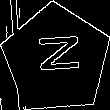N_W: (30, 38, 82, 81)
